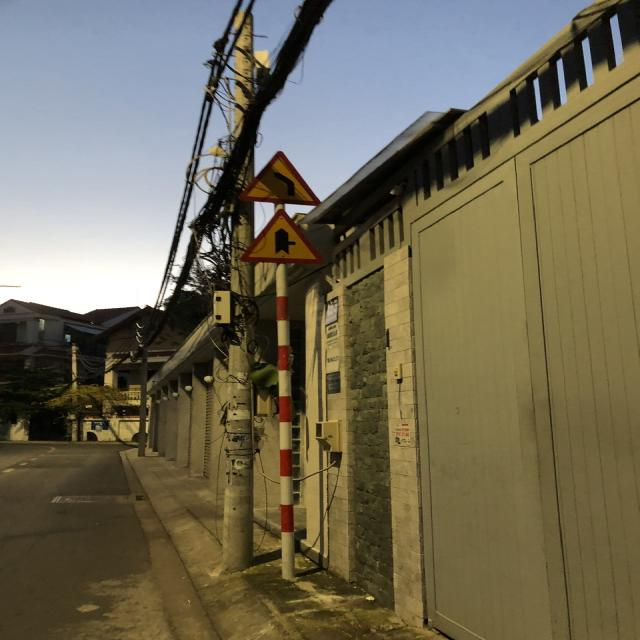Bien bao cho ngoat nguy hiem: (230, 142, 328, 206)
Bien bao giao nhau voi duong khong uu tien: (230, 204, 336, 270)
